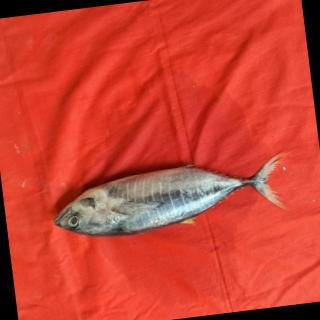Ikan: (32, 136, 300, 263)
